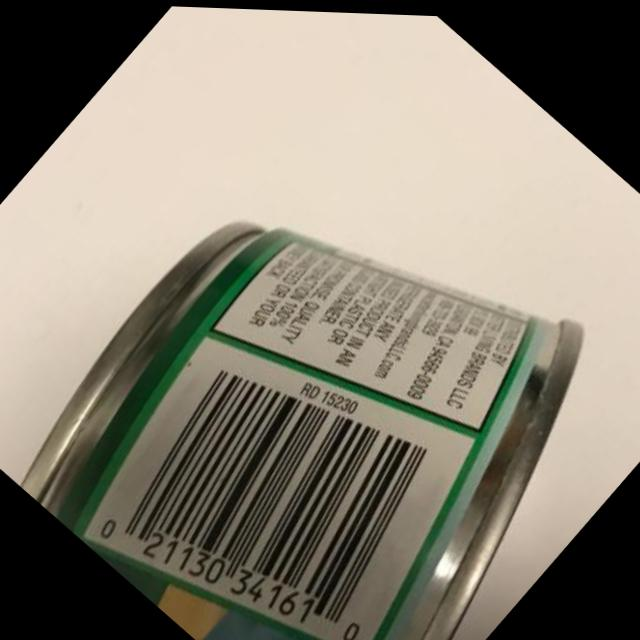metal: (0, 16, 639, 639)
